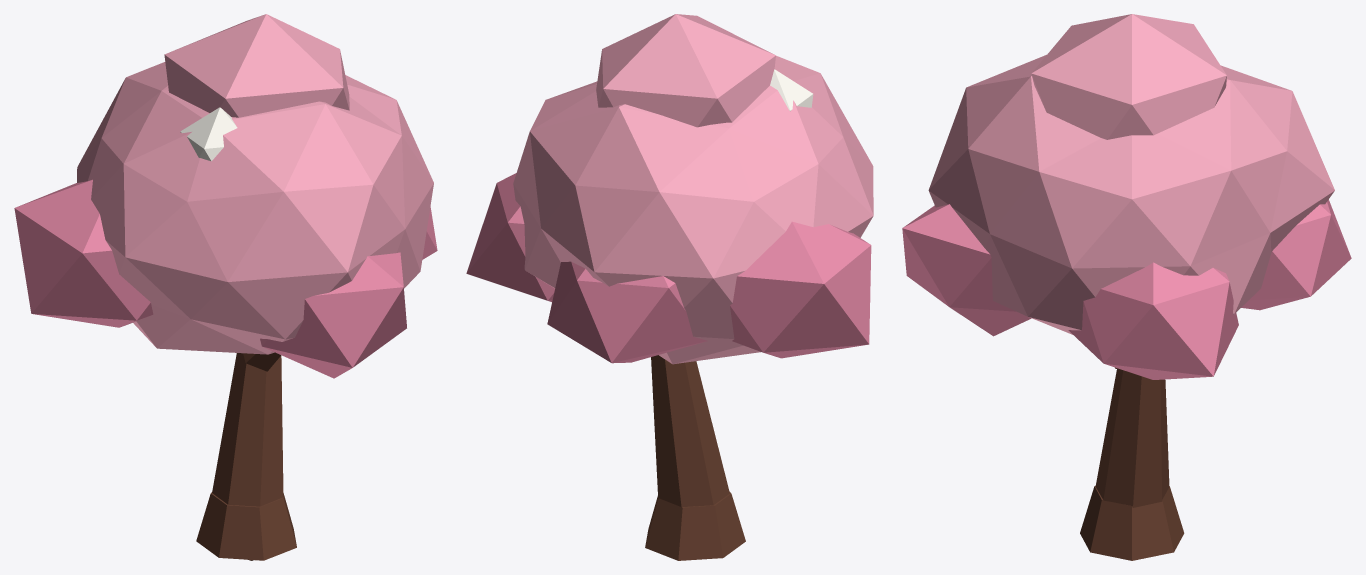
Rendered from Tree_Blossom.fbx.
3 views of the same model, side by side, from view 1: azimuth 30°, elevation 25°; view 2: azimuth 150°, elevation 25°; view 3: azimuth 270°, elevation 25° (orthographic). The views are drawn at different scales.
Visible parts, largest first — view 1: Tree_Blossom; view 2: Tree_Blossom; view 3: Tree_Blossom.
Boxes of the visible parts, box(x1,y1,x2,y2) form: Tree_Blossom: box(14, 14, 437, 560); Tree_Blossom: box(466, 14, 873, 560); Tree_Blossom: box(902, 14, 1351, 560).
Size of the model in its own units: 4.25 by 5.64 by 4.21.
